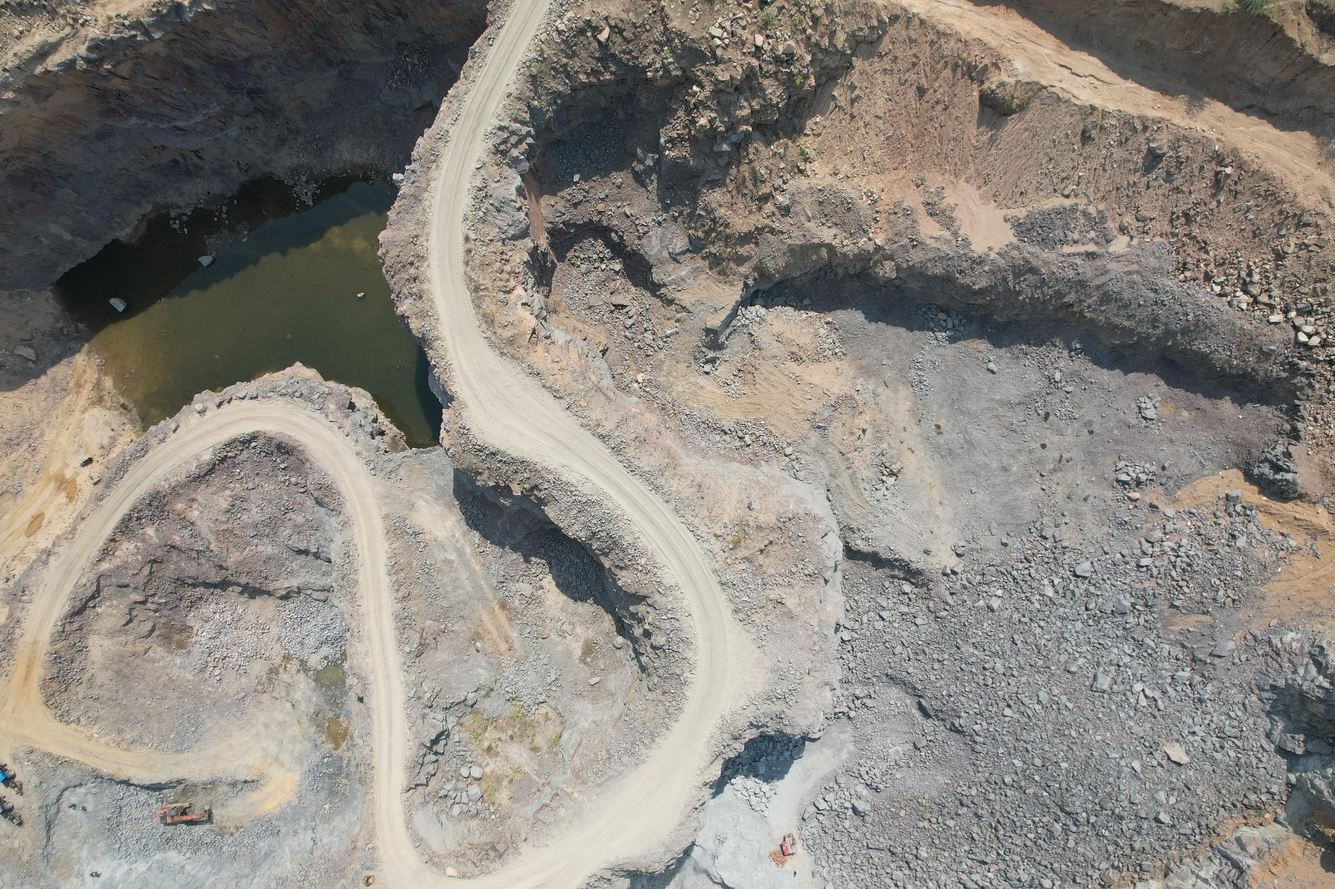benches: (20, 0, 752, 889), (919, 0, 1335, 200)
excavator: (149, 800, 245, 823)
